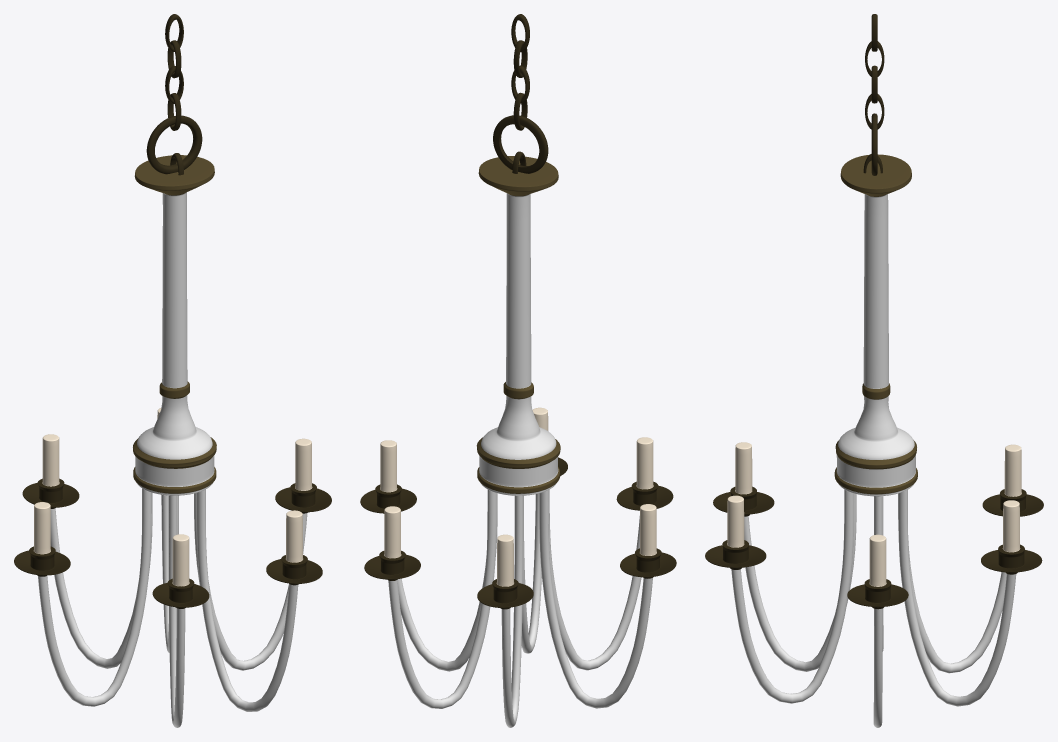
The model's file is chandelier.glb.
3 renders of one model, left to right at view 1: azimuth 30°, elevation 25°; view 2: azimuth 150°, elevation 25°; view 3: azimuth 270°, elevation 25°, orthographic.
Visible parts, largest first — view 1: chandelier_Wtextures_v1; view 2: chandelier_Wtextures_v1; view 3: chandelier_Wtextures_v1.
Boxes of the visible parts, x1,y1,x2,y2 form: chandelier_Wtextures_v1: (14, 14, 331, 727); chandelier_Wtextures_v1: (360, 14, 676, 727); chandelier_Wtextures_v1: (705, 14, 1043, 727).
Bounding box in the file's own units: 3.83 × 8 × 3.65.
